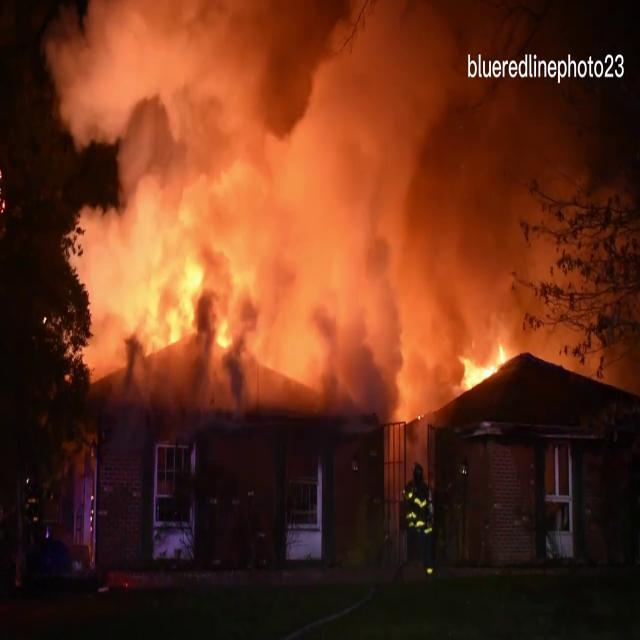Fire: (450, 326, 516, 394)
Smoke: (28, 0, 586, 391)
